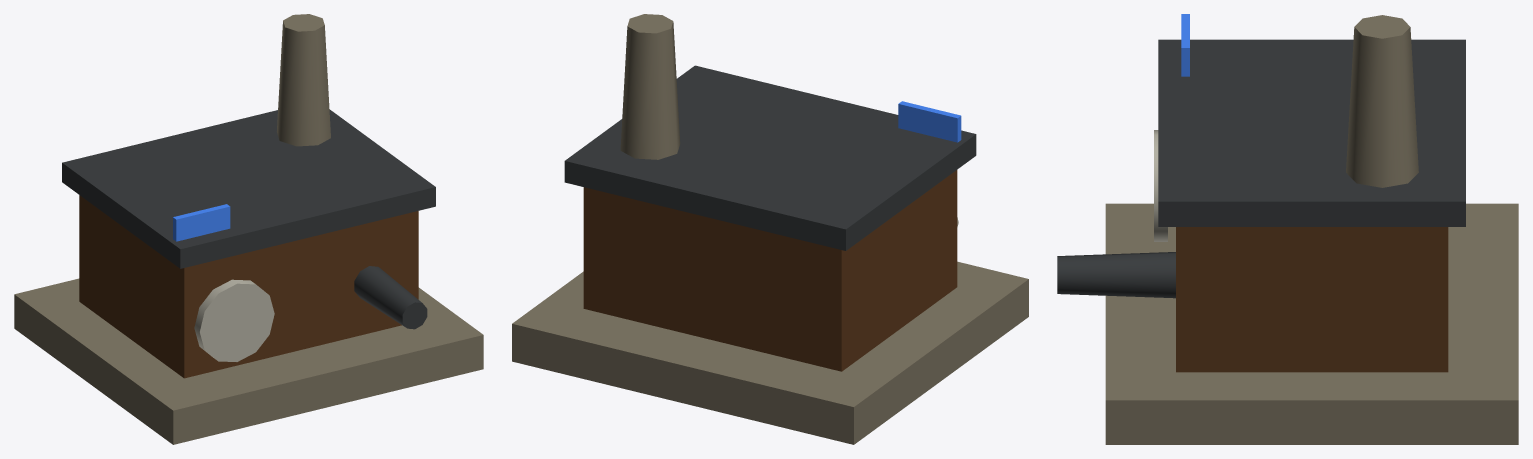
Rendered from workshop.glb.
3 views of the same model, side by side, from view 1: azimuth 30°, elevation 25°; view 2: azimuth 150°, elevation 25°; view 3: azimuth 270°, elevation 25° (orthographic). The views are drawn at different scales.
Visible parts, largest first — view 1: workshop-flat-roof, workshop-stone-base, workshop-industrial-body, workshop-smokestack, workshop-front-gear, workshop-cannon-barrel, workshop-team-banner; view 2: workshop-industrial-body, workshop-flat-roof, workshop-stone-base, workshop-smokestack, workshop-team-banner; view 3: workshop-stone-base, workshop-flat-roof, workshop-industrial-body, workshop-smokestack, workshop-cannon-barrel, workshop-front-gear, workshop-team-banner.
Boxes of the visible parts, box(x1,y1,x2,y2) form: workshop-flat-roof: box(62, 109, 435, 268); workshop-stone-base: box(14, 278, 483, 444); workshop-industrial-body: box(79, 195, 418, 378); workshop-smokestack: box(277, 14, 330, 146); workshop-front-gear: box(194, 279, 274, 361); workshop-cannon-barrel: box(354, 266, 427, 329); workshop-team-banner: box(173, 204, 230, 241); workshop-industrial-body: box(583, 170, 957, 371); workshop-flat-roof: box(564, 65, 976, 250); workshop-stone-base: box(512, 261, 1028, 444); workshop-smokestack: box(620, 14, 680, 159); workshop-team-banner: box(898, 101, 961, 142); workshop-stone-base: box(1105, 203, 1518, 444); workshop-flat-roof: box(1158, 39, 1465, 226); workshop-industrial-body: box(1176, 227, 1448, 372); workshop-smokestack: box(1346, 15, 1418, 187); workshop-cannon-barrel: box(1057, 252, 1175, 298); workshop-front-gear: box(1154, 130, 1167, 241); workshop-team-banner: box(1181, 14, 1189, 76).
Size of the model in its own units: 2.65 by 2.33 by 2.62.
